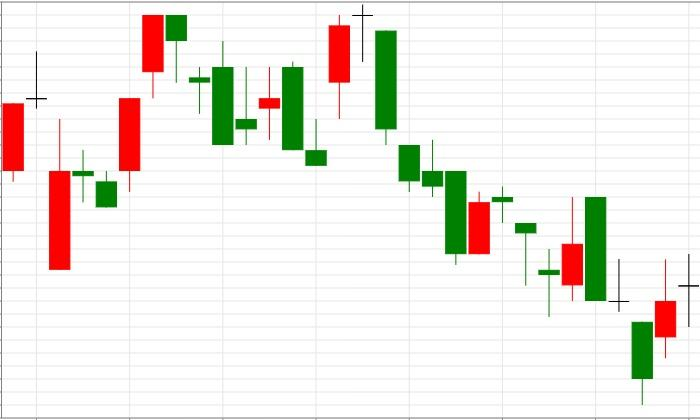hanging_man_fall: (49, 15, 187, 271)
